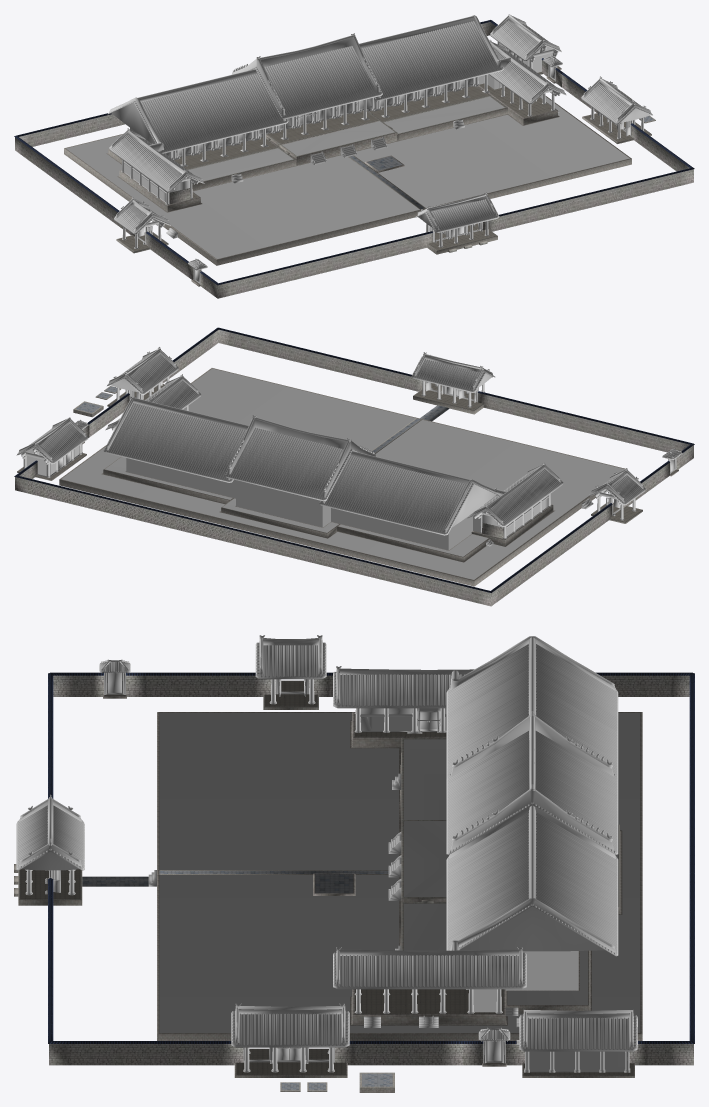
Rendered from Jongmyo_02.fbx.
3 views of the same model, one above another, from view 1: azimuth 30°, elevation 25°; view 2: azimuth 150°, elevation 25°; view 3: azimuth 270°, elevation 25° (orthographic). The views are drawn at different scales.
Visible parts, largest first — view 1: Yeongnyeongjeon; view 2: Yeongnyeongjeon; view 3: Yeongnyeongjeon.
Part boxes in pixels (x1,y1,x2,y2): Yeongnyeongjeon: [14, 14, 694, 298]; Yeongnyeongjeon: [14, 327, 694, 606]; Yeongnyeongjeon: [14, 635, 694, 1092].
Size of the model in its own units: 9486 by 1436 by 6643.
